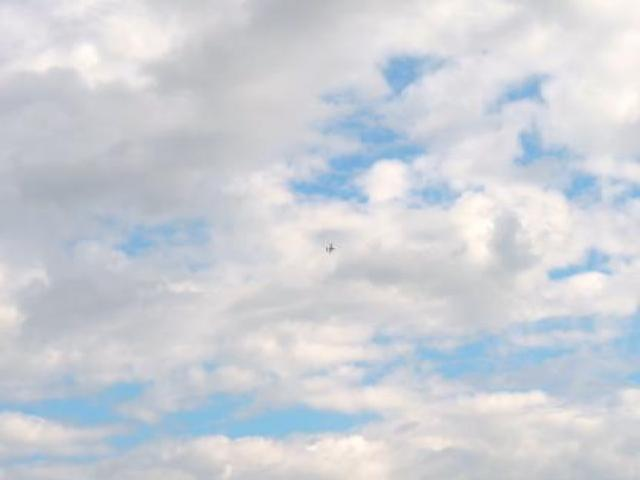uav: (324, 240, 338, 255)
